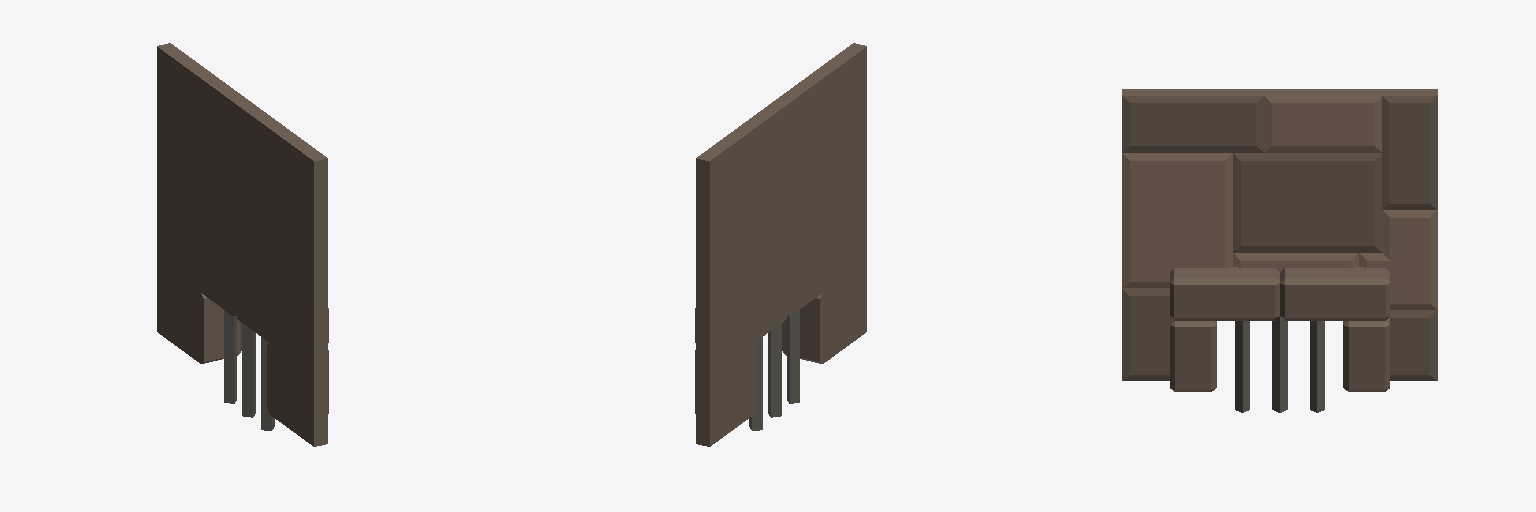
Rendered from Stone_Sewer_Grate_1.obj.
3 renders of one model, left to right at view 1: azimuth 30°, elevation 25°; view 2: azimuth 150°, elevation 25°; view 3: azimuth 270°, elevation 25°, orthographic.
Visible parts, largest first — view 1: object8, object7, object2, object1, object5, object6, object3, object4; view 2: object8, object1, object5, object2, object7, object6, object4, object3; view 3: object8, object2, object5, object1, object7, object6, object3, object4.
Part boxes in pixels (left/top/right/bottom): object8: left=157, top=43, right=327, bottom=446; object7: left=180, top=280, right=241, bottom=363; object2: left=236, top=277, right=328, bottom=355; object1: left=267, top=343, right=328, bottom=427; object5: left=180, top=237, right=235, bottom=315; object6: left=242, top=323, right=255, bottom=417; object3: left=224, top=310, right=236, bottom=403; object4: left=261, top=337, right=274, bottom=430; object8: left=696, top=43, right=866, bottom=446; object1: left=782, top=280, right=843, bottom=363; object5: left=695, top=279, right=787, bottom=355; object2: left=788, top=238, right=843, bottom=315; object7: left=695, top=343, right=756, bottom=427; object6: left=768, top=323, right=781, bottom=417; object4: left=787, top=310, right=799, bottom=403; object3: left=749, top=337, right=762, bottom=430; object8: left=1122, top=89, right=1437, bottom=380; object2: left=1170, top=267, right=1279, bottom=320; object5: left=1280, top=267, right=1389, bottom=320; object1: left=1170, top=317, right=1216, bottom=391; object7: left=1343, top=317, right=1389, bottom=391; object6: left=1272, top=316, right=1287, bottom=412; object3: left=1310, top=321, right=1324, bottom=412; object4: left=1235, top=321, right=1249, bottom=412.
Size of the model in its own units: 0.15 by 1.1 by 1.